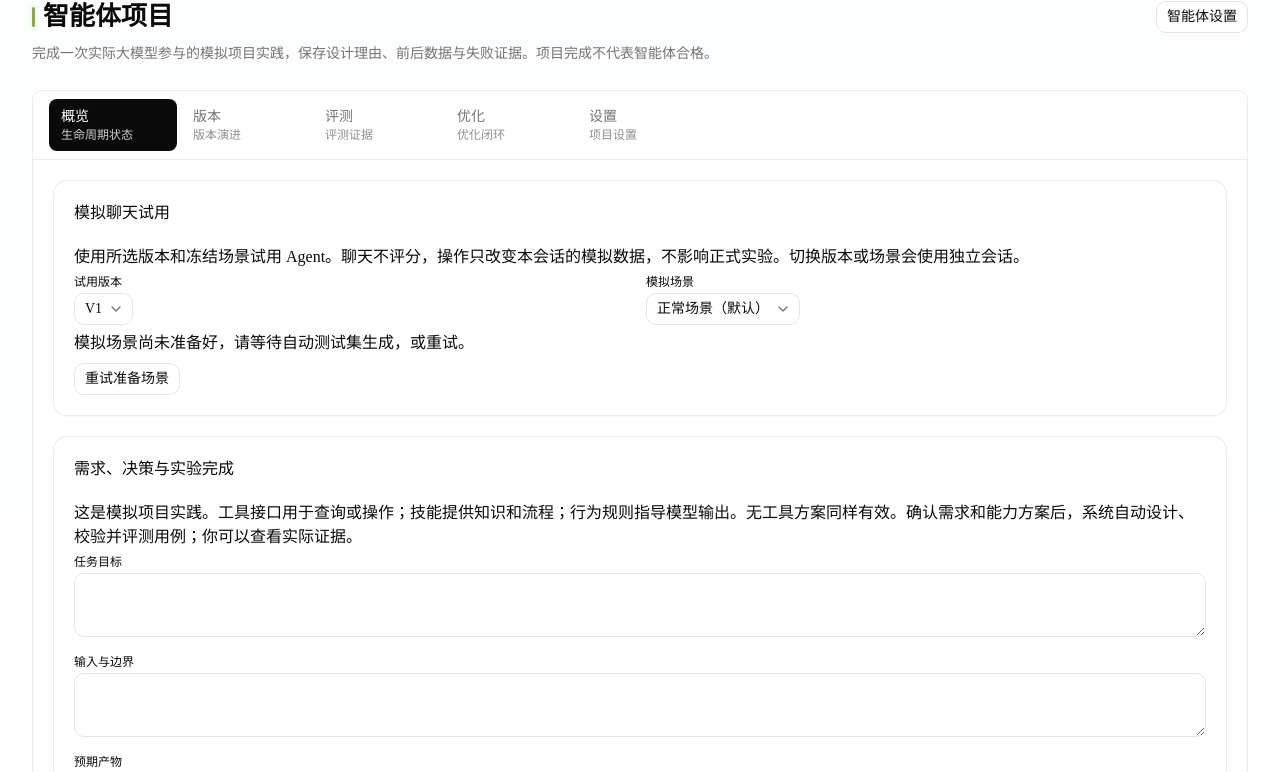
it: submits evaluation against the chosen version and shows persisted results
Step 1. Click the button "评测 评测证据" → (377,124), box [313,98,441,150]
(page scrolled)
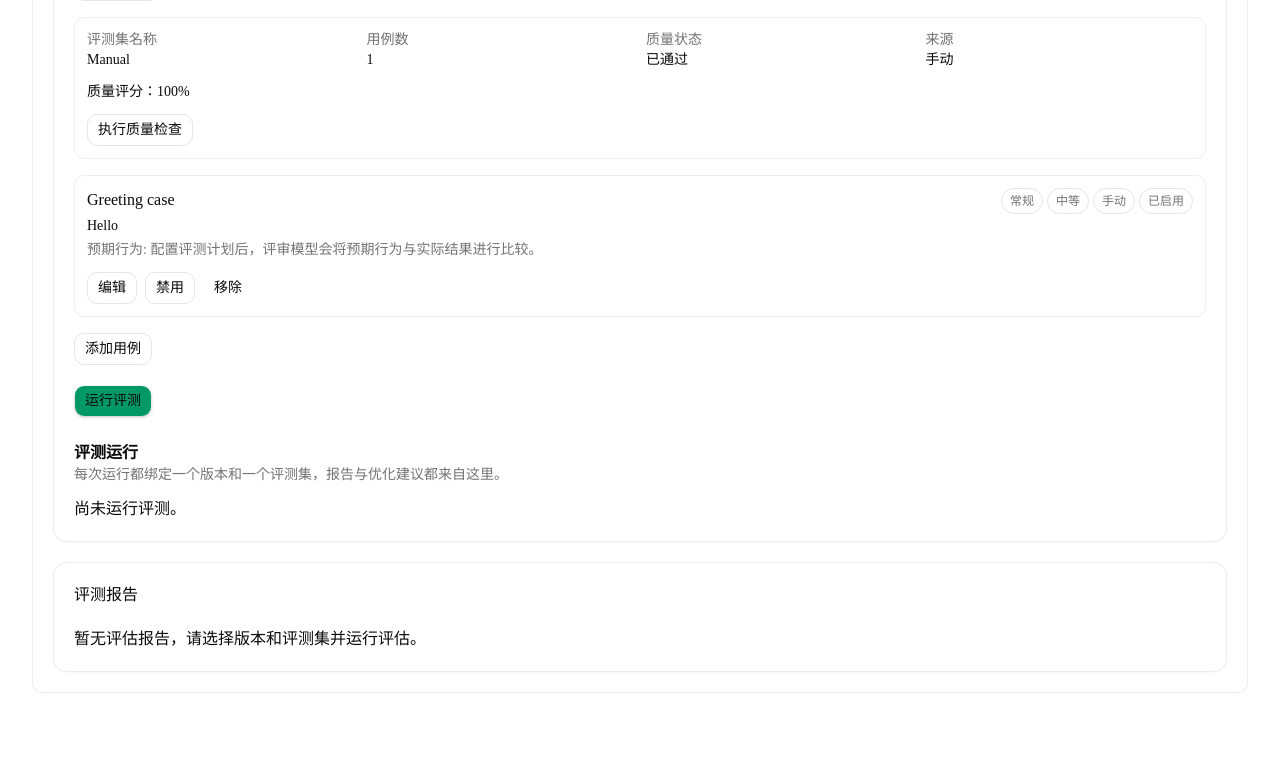
Step 2. Click the button "运行评测" → (113,400), box [74,384,152,416]
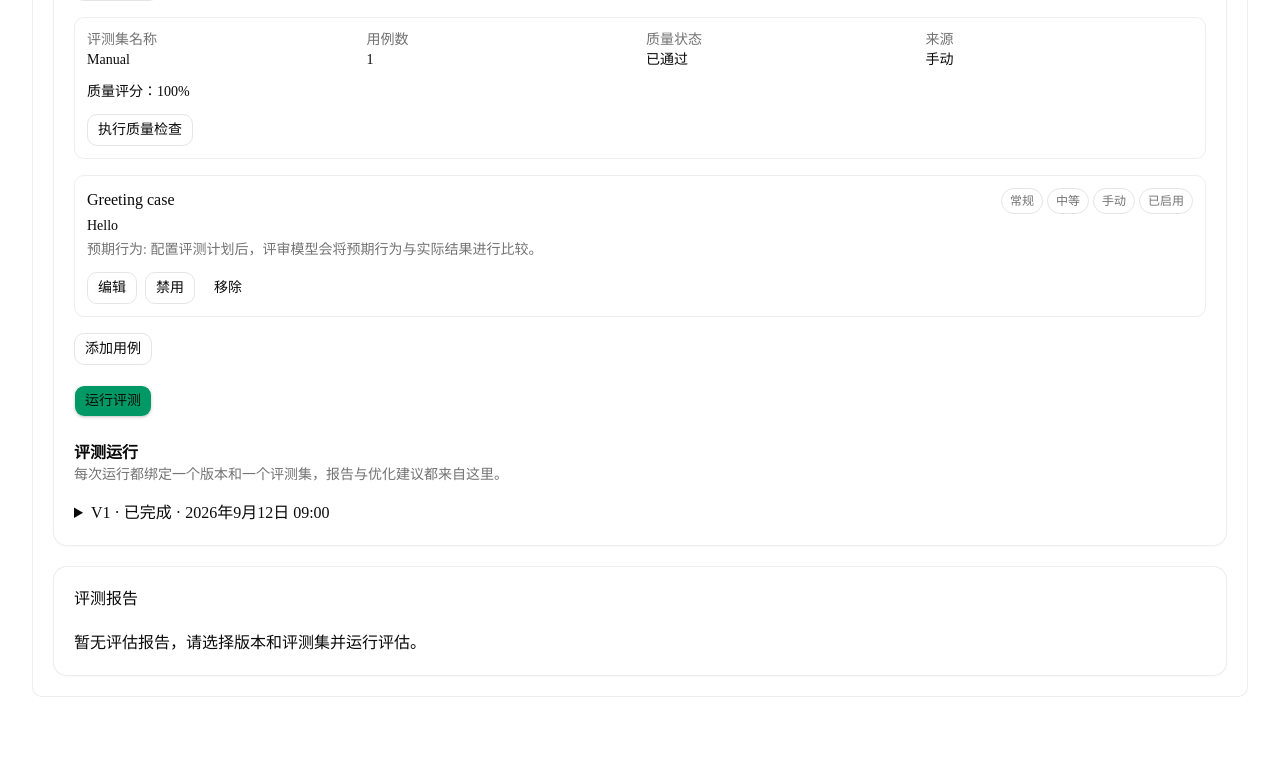
Step 3. Click the heading "V1 · 已完成 · 2026年9月12日 09:00" → (210,512), box [91,504,330,520]
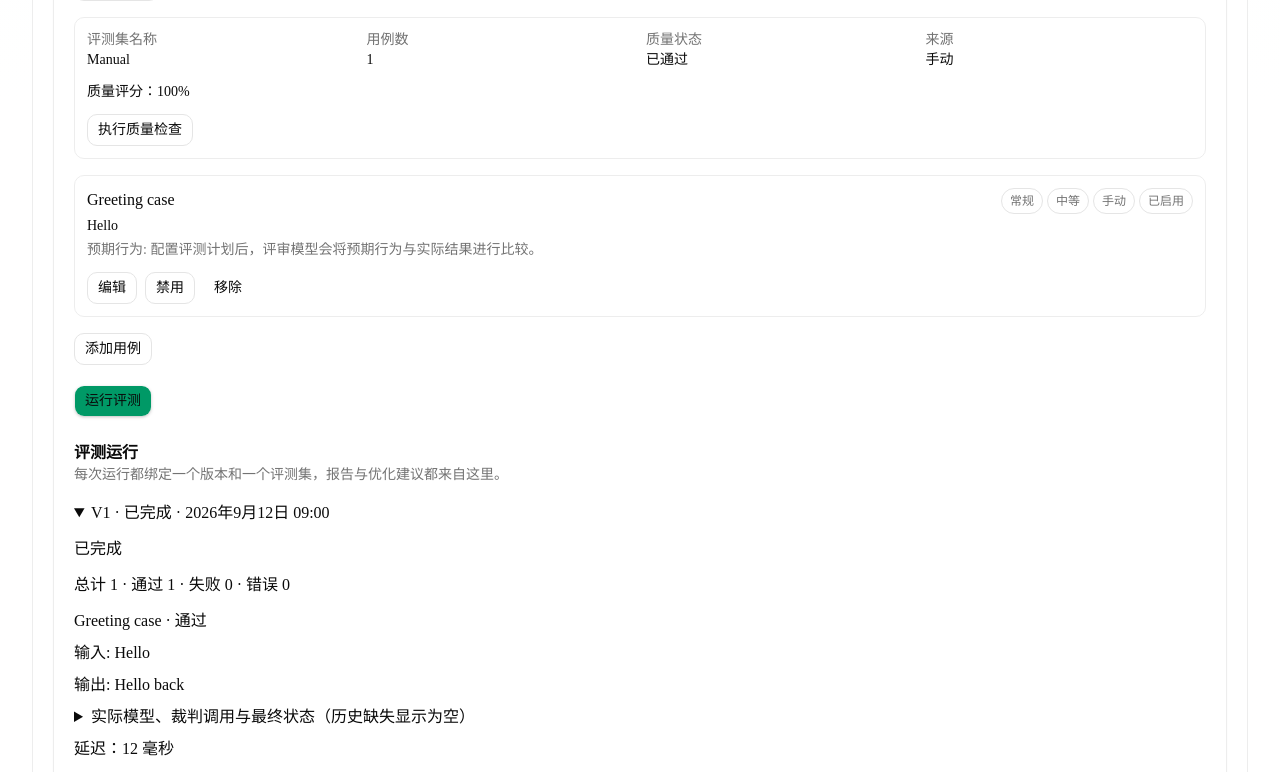
Now the text "输出: Hello back" is shown, box [74,676,184,692]
Now the text "总计 1 · 通过 1 · 失败 0 · 错误 0" is shown, box [74,576,290,592]
